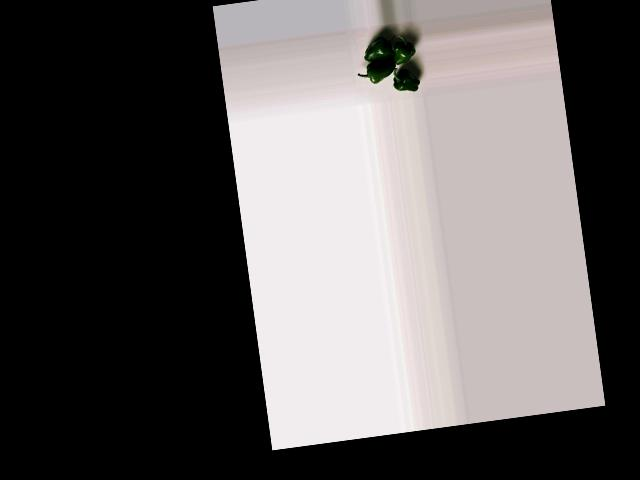bell_pepper: (392, 34, 416, 66)
